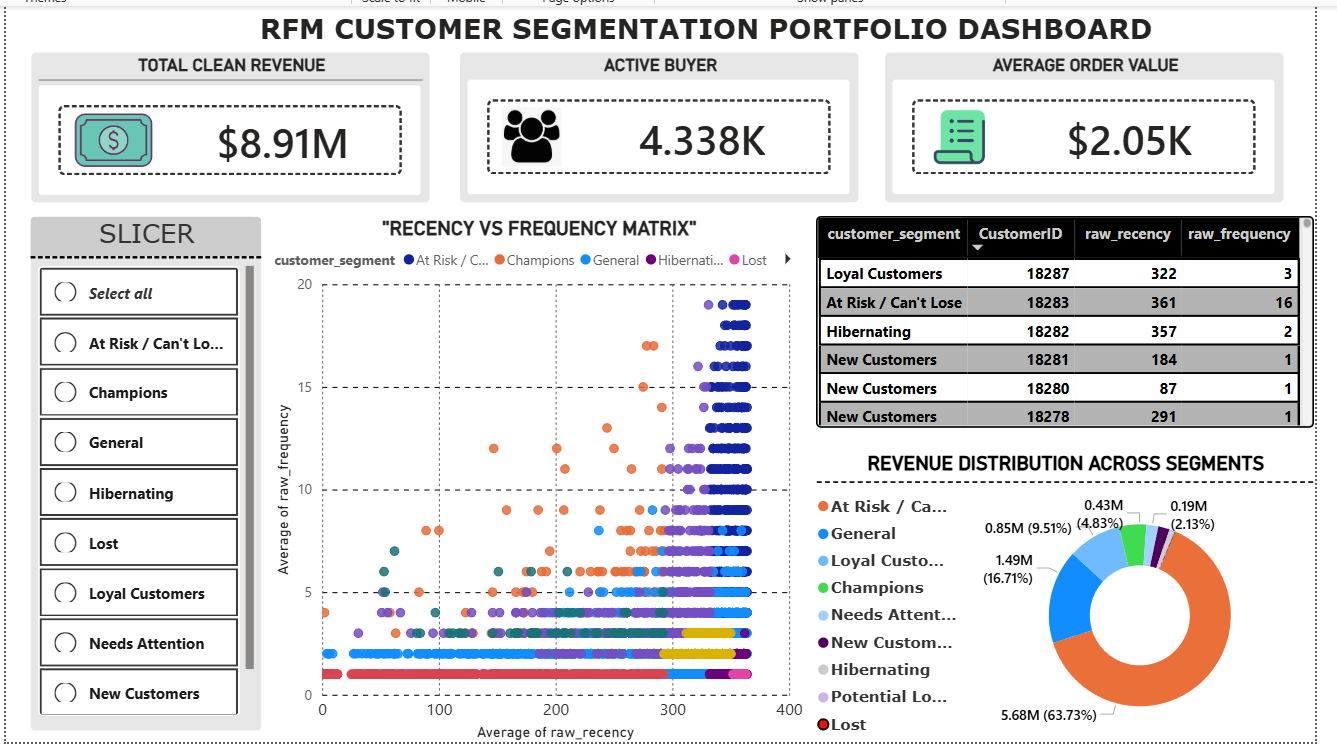

This screenshot's page, from the dashboard's own definition file:
{"tool":"powerbi","page":{"name":"Page 1","canvas":[1280,720],"ordinal":0},"visuals":[{"type":"textbox","box":[9.6,0,1270.7,43.9],"z":0},{"type":"cardVisual","title":"TOTAL CLEAN REVENUE","fields":{"Data":["Sum(retail_analysis rfm.raw_monetory)"]},"box":[23.3,43.9,392.5,149.6],"z":1000},{"type":"cardVisual","title":"ACTIVE BUYER","fields":{"Data":["CountNonNull(retail_analysis rfm.CustomerID)"]},"box":[443.2,43.9,392.5,149.6],"z":2000},{"type":"cardVisual","title":"AVERAGE ORDER VALUE","fields":{"Data":["Avg(retail_analysis rfm.raw_monetory)"]},"box":[859,43.9,392.5,149.6],"z":3000},{"type":"advancedSlicerVisual","title":"SLICER","fields":{"Values":["retail_analysis rfm.customer_segment"]},"box":[22.9,205.7,227.1,504.3],"z":4000},{"type":"donutChart","title":"REVENUE DISTRIBUTION ACROSS SEGMENTS","fields":{"Category":["retail_analysis rfm.customer_segment"],"Y":["Sum(retail_analysis rfm.raw_monetory)"]},"box":[792.9,435.7,487.1,284.3],"z":5000},{"type":"scatterChart","title":"\"RECENCY VS FREQUENCY MATRIX\"","fields":{"X":["Avg(retail_analysis rfm.raw_recency)"],"Y":["Avg(retail_analysis rfm.raw_frequency)"],"Series":["retail_analysis rfm.customer_segment"],"Category":["retail_analysis rfm.CustomerID"]},"box":[261.4,205.7,518.6,514.3],"z":6000},{"type":"tableEx","fields":{"Values":["retail_analysis rfm.customer_segment","retail_analysis rfm.CustomerID","retail_analysis rfm.raw_recency","retail_analysis rfm.raw_frequency"]},"box":[792.9,205.7,487.1,207.1],"z":7000}]}

Visuals, with their boxes on the page's 1280x720 design canvas (x1, y1, x2, y2). These are canvas units, not pixel positions in the 1337x752 screenshot, which may show the page scaled, cropped or inside an application window:
textbox: [x1=10, y1=0, x2=1280, y2=44]
"TOTAL CLEAN REVENUE" cardVisual: [x1=23, y1=44, x2=416, y2=194]
"ACTIVE BUYER" cardVisual: [x1=443, y1=44, x2=836, y2=194]
"AVERAGE ORDER VALUE" cardVisual: [x1=859, y1=44, x2=1252, y2=194]
"SLICER" advancedSlicerVisual: [x1=23, y1=206, x2=250, y2=710]
"REVENUE DISTRIBUTION ACROSS SEGMENTS" donutChart: [x1=793, y1=436, x2=1280, y2=720]
""RECENCY VS FREQUENCY MATRIX"" scatterChart: [x1=261, y1=206, x2=780, y2=720]
tableEx - retail_analysis rfm.customer_segment x retail_analysis rfm.CustomerID: [x1=793, y1=206, x2=1280, y2=413]
